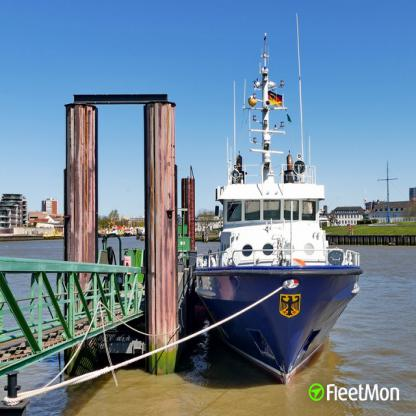Patrol Boat: (192, 11, 364, 385)
